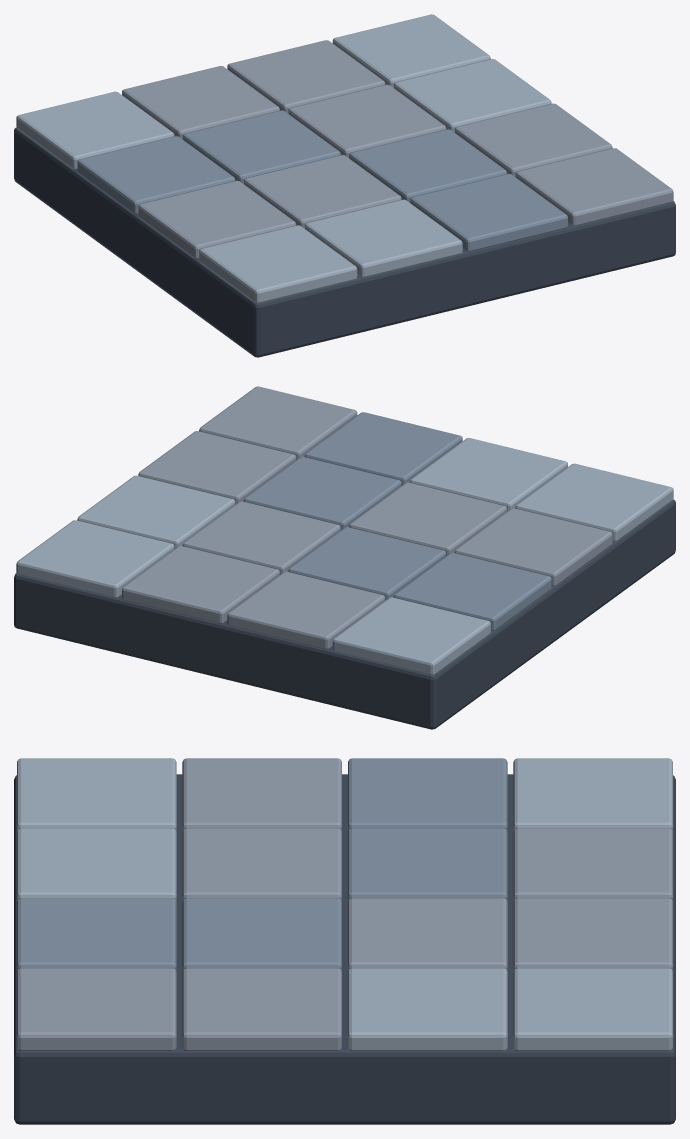
File: floor.glb
3 views of the same model, one above another, from view 1: azimuth 30°, elevation 25°; view 2: azimuth 150°, elevation 25°; view 3: azimuth 270°, elevation 25° (orthographic). The views are drawn at different scales.
Parts seen in each view (by area): view 1: Floor_Foundation, Floor_Paver_0_0, Floor_Paver_1_0, Floor_Paver_3_0, Floor_Paver_2_0, Floor_Paver_0_3, Floor_Paver_0_2, Floor_Paver_0_1, Floor_Paver_2_3, Floor_Paver_1_1, Floor_Paver_3_2, Floor_Paver_3_1 (+5 smaller); view 2: Floor_Foundation, Floor_Paver_0_3, Floor_Paver_1_3, Floor_Paver_3_3, Floor_Paver_2_3, Floor_Paver_0_0, Floor_Paver_0_1, Floor_Paver_0_2, Floor_Paver_2_0, Floor_Paver_1_2, Floor_Paver_3_1, Floor_Paver_3_0 (+5 smaller); view 3: Floor_Foundation, Floor_Paver_3_0, Floor_Paver_3_1, Floor_Paver_3_2, Floor_Paver_3_3, Floor_Paver_0_0, Floor_Paver_0_1, Floor_Paver_0_2, Floor_Paver_0_3, Floor_Paver_1_0, Floor_Paver_1_1, Floor_Paver_1_2 (+5 smaller).
Boxes of the visible parts, box(x1,y1,x2,y2) form: Floor_Foundation: box(14, 127, 675, 357); Floor_Paver_0_0: box(199, 225, 357, 303); Floor_Paver_1_0: box(304, 199, 462, 277); Floor_Paver_3_0: box(515, 148, 673, 225); Floor_Paver_2_0: box(410, 174, 567, 251); Floor_Paver_0_3: box(16, 91, 174, 169); Floor_Paver_0_2: box(77, 136, 235, 213); Floor_Paver_0_1: box(138, 180, 296, 258); Floor_Paver_2_3: box(227, 40, 385, 113); Floor_Paver_1_1: box(243, 155, 401, 228); Floor_Paver_3_2: box(393, 59, 551, 132); Floor_Paver_3_1: box(454, 103, 612, 176); Floor_Foundation: box(14, 499, 675, 729); Floor_Paver_0_3: box(332, 597, 490, 675); Floor_Paver_1_3: box(227, 571, 385, 649); Floor_Paver_3_3: box(16, 520, 174, 597); Floor_Paver_2_3: box(122, 546, 279, 623); Floor_Paver_0_0: box(515, 463, 673, 541); Floor_Paver_0_1: box(454, 508, 612, 585); Floor_Paver_0_2: box(393, 552, 551, 630); Floor_Paver_2_0: box(304, 412, 462, 485); Floor_Paver_1_2: box(288, 527, 446, 600); Floor_Paver_3_1: box(138, 431, 296, 504); Floor_Paver_3_0: box(199, 386, 357, 459); Floor_Foundation: box(14, 774, 675, 1124); Floor_Paver_3_0: box(17, 968, 176, 1050); Floor_Paver_3_1: box(182, 968, 341, 1050); Floor_Paver_3_2: box(348, 968, 507, 1050); Floor_Paver_3_3: box(513, 968, 672, 1050); Floor_Paver_0_0: box(17, 758, 176, 831); Floor_Paver_0_1: box(182, 758, 341, 831); Floor_Paver_0_2: box(348, 758, 507, 831); Floor_Paver_0_3: box(513, 758, 672, 831); Floor_Paver_1_0: box(17, 828, 176, 901); Floor_Paver_1_1: box(182, 828, 341, 901); Floor_Paver_1_2: box(348, 828, 507, 901).
Bounding box in the file's own units: 4 × 0.61 × 4.
